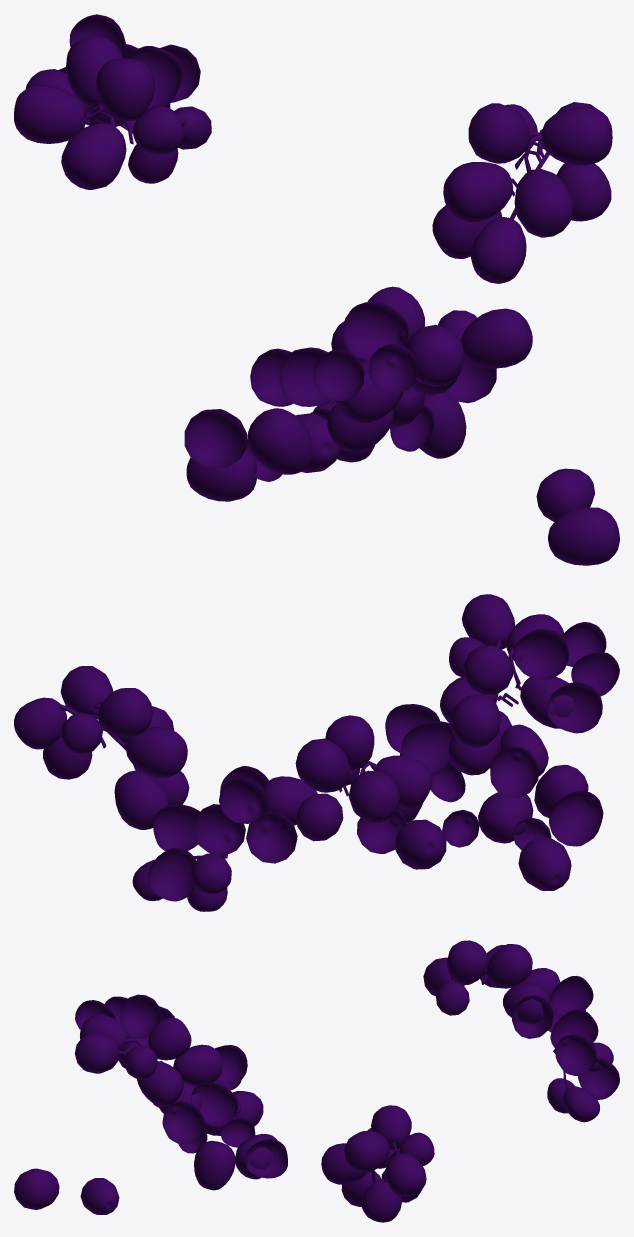
The model's file is grapes.obj.
3 renders of one model, top to bottom at view 1: azimuth 30°, elevation 25°; view 2: azimuth 150°, elevation 25°; view 3: azimuth 270°, elevation 25°, orthographic. The views are drawn at different scales.
Parts seen in each view (by area): view 1: grapes_AHHHHH polySurface21 polySurface31 polySurface51 grape po, grapes_AHHHHH polySurface9 transform160 transform162 transform16, grapes_AHHHHH polySurface7 transform139 transform140 transform14, grapes_AHHHHH polySurface8 transform151 transform155 transform15, grapes_AHHHHH polySurface11 transform147 transform148 transform1, grapes_AHHHHH polySurface23 polySurface29 polySurface28 polySurf, grapes_AHHHHH polySurface12 transform157 transform158 transform1, grapes_AHHHHH polySurface22 polySurface3 polySurface52 polySurfa; view 2: grapes_AHHHHH polySurface21 polySurface31 polySurface51 grape po, grapes_AHHHHH polySurface9 transform160 transform162 transform16, grapes_AHHHHH polySurface8 transform151 transform155 transform15, grapes_AHHHHH polySurface22 polySurface3 polySurface52 polySurfa, grapes_AHHHHH polySurface23 polySurface29 polySurface28 polySurf, grapes_AHHHHH polySurface7 transform139 transform140 transform14, grapes_AHHHHH polySurface11 transform147 transform148 transform1, grapes_AHHHHH polySurface12 transform157 transform158 transform1, grapes_AHHHHH; view 3: grapes_AHHHHH polySurface21 polySurface31 polySurface51 grape po, grapes_AHHHHH polySurface9 transform160 transform162 transform16, grapes_AHHHHH polySurface22 polySurface3 polySurface52 polySurfa, grapes_AHHHHH polySurface23 polySurface29 polySurface28 polySurf, grapes_AHHHHH polySurface8 transform151 transform155 transform15, grapes_AHHHHH polySurface12 transform157 transform158 transform1, grapes_AHHHHH polySurface7 transform139 transform140 transform14, grapes_AHHHHH, grapes_AHHHHH polySurface11 transform147 transform148 transform1.
Boxes of the visible parts, x1,y1,x2,y2 form: grapes_AHHHHH polySurface21 polySurface31 polySurface51 grape po: (58, 14, 619, 565); grapes_AHHHHH polySurface9 transform160 transform162 transform16: (66, 36, 530, 362); grapes_AHHHHH polySurface7 transform139 transform140 transform14: (14, 85, 573, 423); grapes_AHHHHH polySurface8 transform151 transform155 transform15: (87, 107, 501, 474); grapes_AHHHHH polySurface11 transform147 transform148 transform1: (26, 69, 526, 451); grapes_AHHHHH polySurface23 polySurface29 polySurface28 polySurf: (86, 103, 611, 221); grapes_AHHHHH polySurface12 transform157 transform158 transform1: (133, 104, 537, 359); grapes_AHHHHH polySurface22 polySurface3 polySurface52 polySurfa: (160, 44, 595, 427); grapes_AHHHHH polySurface21 polySurface31 polySurface51 grape po: (60, 594, 619, 890); grapes_AHHHHH polySurface9 transform160 transform162 transform16: (98, 645, 512, 792); grapes_AHHHHH polySurface8 transform151 transform155 transform15: (114, 727, 588, 829); grapes_AHHHHH polySurface22 polySurface3 polySurface52 polySurfa: (14, 697, 538, 853); grapes_AHHHHH polySurface23 polySurface29 polySurface28 polySurf: (43, 736, 231, 911); grapes_AHHHHH polySurface7 transform139 transform140 transform14: (119, 677, 574, 822); grapes_AHHHHH polySurface11 transform147 transform148 transform1: (139, 724, 548, 841); grapes_AHHHHH polySurface12 transform157 transform158 transform1: (61, 637, 485, 785); grapes_AHHHHH: (440, 676, 498, 724); grapes_AHHHHH polySurface21 polySurface31 polySurface51 grape po: (14, 957, 598, 1214); grapes_AHHHHH polySurface9 transform160 transform162 transform16: (148, 940, 532, 1168); grapes_AHHHHH polySurface22 polySurface3 polySurface52 polySurfa: (215, 1034, 596, 1196); grapes_AHHHHH polySurface23 polySurface29 polySurface28 polySurf: (361, 1042, 619, 1222); grapes_AHHHHH polySurface8 transform151 transform155 transform15: (158, 983, 549, 1202); grapes_AHHHHH polySurface12 transform157 transform158 transform1: (124, 982, 469, 1165); grapes_AHHHHH polySurface7 transform139 transform140 transform14: (118, 945, 504, 1184); grapes_AHHHHH: (137, 1061, 183, 1106); grapes_AHHHHH polySurface11 transform147 transform148 transform1: (153, 968, 560, 1206).
Bounding box in the file's own units: 6.49 × 3.51 × 9.
